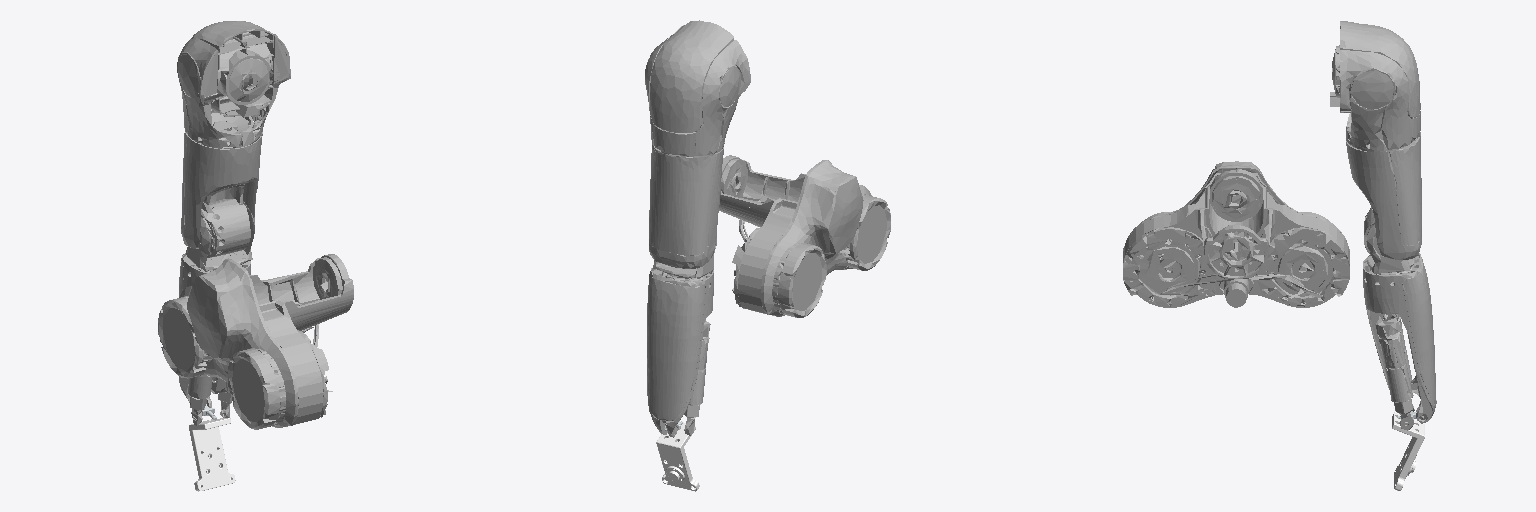
robot.urdf — p4_humanoid_l_arm:
<?xml version="1.0" encoding="utf-8"?>
<!-- This URDF was automatically created by SolidWorks to URDF Exporter! Originally created by Stephen Brawner (brawner@gmail.com) 
     Commit Version: 1.6.0-4-g7f85cfe  Build Version: 1.6.7995.38578
     For more information, please see http://wiki.ros.org/sw_urdf_exporter -->
<robot
  name="p4_humanoid_l_arm">

  <!-- *************************************************************************************************** -->
  <!--***************************************  LeftArm ************************************************** -->
  
  <link
    name="pelvis">
    <inertial>
      <origin
        xyz="-0.097501 -0.00071331 0.014496"
        rpy="0 0 0" />
      <mass
        value="7.3588" />
      <inertia
        ixx="0.07295321"
        ixy="5.28E-05"
        ixz="0.00061832"
        iyy="0.01891928"
        iyz="7.9E-05"
        izz="0.06144182" />
    </inertial>
    <visual>
      <origin
        xyz="0 0 0"
        rpy="0 0 0" />
      <geometry>
        <mesh
          filename="package://p4_humanoid_description/meshes/pelvis.STL" />
      </geometry>
      <material
        name="">
        <color
          rgba="0.75294 0.75294 0.75294 1" />
      </material>
    </visual>
    <collision>
      <origin
        xyz="0 0 0"
        rpy="0 0 0" />
      <geometry>
        <mesh
          filename="package://p4_humanoid_description/meshes/pelvis.STL" />
      </geometry>
    </collision>
  </link>

  
  <link
    name="link_la1">
    <inertial>
      <origin
        xyz="-0.0017427 -0.0032911 -0.00048706"
        rpy="0 0 0" />
      <mass
        value="1.5214" />
      <inertia
        ixx="0.0020202"
        ixy="1.53E-06"
        ixz="-8E-08"
        iyy="0.0020419"
        iyz="2.22E-05"
        izz="0.0021238" />
    </inertial>
    <visual>
      <origin
        xyz="0 0 0"
        rpy="0 0 0" />
      <geometry>
        <mesh
          filename="package://p5_humanoid_description/meshes/link_la1.STL" />
      </geometry>
      <material
        name="">
        <color
          rgba="0.75294 0.75294 0.75294 1" />
      </material>
    </visual>
    <collision>
      <origin
        xyz="0 0 0"
        rpy="0 0 0" />
      <geometry>
        <mesh
          filename="package://p5_humanoid_description/meshes/link_la1.STL" />
      </geometry>
    </collision>
  </link>
  <joint
    name="joint_la1"
    type="revolute">
    <origin
      xyz="-0.0079 0.19799 0.346"
      rpy="0 0 0" />
    <parent
      link="pelvis" />
    <child
      link="link_la1" />
    <axis
      xyz="0 1 0" />
    <limit
      lower="-2.7576"
      upper="2.7576"
      effort="1000"
      velocity="10" />
  </joint>
  <link
    name="link_la2">
    <inertial>
      <origin
        xyz="-0.002658 0.006084 -0.044177"
        rpy="0 0 0" />
      <mass
        value="0.59342" />
      <inertia
        ixx="0.0019946"
        ixy="-1.05E-05"
        ixz="5.194E-05"
        iyy="0.0027114"
        iyz="0.000263"
        izz="0.0017907" />
    </inertial>
    <visual>
      <origin
        xyz="0 0 0"
        rpy="0 0 0" />
      <geometry>
        <mesh
          filename="package://p5_humanoid_description/meshes/link_la2.STL" />
      </geometry>
      <material
        name="">
        <color
          rgba="0.75294 0.75294 0.75294 1" />
      </material>
    </visual>
    <collision>
      <origin
        xyz="0 0 0"
        rpy="0 0 0" />
      <geometry>
        <mesh
          filename="package://p5_humanoid_description/meshes/link_la2.STL" />
      </geometry>
    </collision>
  </link>
  <joint
    name="joint_la2"
    type="revolute">
    <origin
      xyz="0 0 0"
      rpy="0 0 0" />
    <parent
      link="link_la1" />
    <child
      link="link_la2" />
    <axis
      xyz="1 0 0" />
    <limit
      lower="-0.2618"
      upper="2.8798"
      effort="1000"
      velocity="10" />
  </joint>
  <link
    name="link_la3">
    <inertial>
      <origin
        xyz="-0.0043043 -0.00056853 -0.086242"
        rpy="0 0 0" />
      <mass
        value="1.8035" />
      <inertia
        ixx="0.008233"
        ixy="3.217E-05"
        ixz="-0.00050344"
        iyy="0.0082866"
        iyz="-0.0001859"
        izz="0.0017181" />
    </inertial>
    <visual>
      <origin
        xyz="0 0 0"
        rpy="0 0 0" />
      <geometry>
        <mesh
          filename="package://p5_humanoid_description/meshes/link_la3.STL" />
      </geometry>
      <material
        name="">
        <color
          rgba="0.75294 0.75294 0.75294 1" />
      </material>
    </visual>
    <collision>
      <origin
        xyz="0 0 0"
        rpy="0 0 0" />
      <geometry>
        <mesh
          filename="package://p5_humanoid_description/meshes/link_la3.STL" />
      </geometry>
    </collision>
  </link>
  <joint
    name="joint_la3"
    type="revolute">
    <origin
      xyz="-5.6644E-05 0.015599 -0.10454"
      rpy="0.087272 0 0" />
    <parent
      link="link_la2" />
    <child
      link="link_la3" />
    <axis
      xyz="0 0 1" />
    <limit
      lower="-2.618"
      upper="2.618"
      effort="1000"
      velocity="10" />
  </joint>
  <link
    name="link_la4">
    <inertial>
      <origin
        xyz="-0.0037512 0.00059846 -0.022713"
        rpy="0 0 0" />
      <mass
        value="0.19646" />
      <inertia
        ixx="0.00014929"
        ixy="-5.55E-06"
        ixz="2.026E-05"
        iyy="0.0002863"
        iyz="-1.87E-06"
        izz="0.00023341" />
    </inertial>
    <visual>
      <origin
        xyz="0 0 0"
        rpy="0 0 0" />
      <geometry>
        <mesh
          filename="package://p5_humanoid_description/meshes/link_la4.STL" />
      </geometry>
      <material
        name="">
        <color
          rgba="0.75294 0.75294 0.75294 1" />
      </material>
    </visual>
    <collision>
      <origin
        xyz="0 0 0"
        rpy="0 0 0" />
      <geometry>
        <mesh
          filename="package://p5_humanoid_description/meshes/link_la4.STL" />
      </geometry>
    </collision>
  </link>
  <joint
    name="joint_la4"
    type="revolute">
    <origin
      xyz="-0.00075212 -0.0049993 -0.154"
      rpy="0 -1.4664E-05 -0.00087622" />
    <parent
      link="link_la3" />
    <child
      link="link_la4" />
    <axis
      xyz="1 0 0" />
    <limit
      lower="-2.2166"
      upper="0.1745"
      effort="1000"
      velocity="10" />
  </joint>
  <link
    name="link_la5">
    <inertial>
      <origin
        xyz="8.05E-05 0.00037564 -0.15082"
        rpy="0 0 0" />
      <mass
        value="2.0103" />
      <inertia
        ixx="0.013613"
        ixy="2.4E-07"
        ixz="-1.157E-05"
        iyy="0.013825"
        iyz="0.00019251"
        izz="0.0018716" />
    </inertial>
    <visual>
      <origin
        xyz="0 0 0"
        rpy="0 0 0" />
      <geometry>
        <mesh
          filename="package://p5_humanoid_description/meshes/link_la5.STL" />
      </geometry>
      <material
        name="">
        <color
          rgba="0.75294 0.75294 0.75294 1" />
      </material>
    </visual>
    <collision>
      <origin
        xyz="0 0 0"
        rpy="0 0 0" />
      <geometry>
        <mesh
          filename="package://p5_humanoid_description/meshes/link_la5.STL" />
      </geometry>
    </collision>
  </link>
  <joint
    name="joint_la5"
    type="revolute">
    <origin
      xyz="0 0 0"
      rpy="0 0 0" />
    <parent
      link="link_la4" />
    <child
      link="link_la5" />
    <axis
      xyz="0 0 1" />
    <limit
      lower="-2.9147"
      upper="2.9147"
      effort="1000"
      velocity="10" />
  </joint>
  <link
    name="link_la6">
    <inertial>
      <origin
        xyz="0 -0.010485 -1.3192E-05"
        rpy="0 0 0" />
      <mass
        value="0.0077626" />
      <inertia
        ixx="8.9E-07"
        ixy="0"
        ixz="0"
        iyy="1.4E-07"
        iyz="0"
        izz="9.3E-07" />
    </inertial>
    <visual>
      <origin
        xyz="0 0 0"
        rpy="0 0 0" />
      <geometry>
        <mesh
          filename="package://p5_humanoid_description/meshes/link_la6.STL" />
      </geometry>
      <material
        name="">
        <color
          rgba="0.89804 0.91765 0.92941 1" />
      </material>
    </visual>
    <collision>
      <origin
        xyz="0 0 0"
        rpy="0 0 0" />
      <geometry>
        <mesh
          filename="package://p5_humanoid_description/meshes/link_la6.STL" />
      </geometry>
    </collision>
  </link>
  <joint
    name="joint_la6"
    type="revolute">
    <origin
      xyz="0 0.02371 -0.29585"
      rpy="0.045412 0 0" />
    <parent
      link="link_la5" />
    <child
      link="link_la6" />
    <axis
      xyz="1 0 0" />
    <limit
      lower="-0.9948"
      upper="0.9948"
      effort="1000"
      velocity="10" />
  </joint>


  <joint
    name="joint_la7"
    type="revolute" dont_collapse="true">
    <origin
      xyz="0 -0.05 -0.05"
      rpy="0.54  3.14159 0" />
    <parent
      link="link_la6" />
    <child
      link="grip_base_link_l" />
    <axis
      xyz="0 1 0" />
    <limit
      lower="-0.4538"
      upper="0.4538"
      effort="60"
      velocity="3" />
    <dynamics damping="1.0e-6" friction="2.0e-1"/>
  </joint>

  <link
    name="grip_base_link_l">
    <inertial>
      <origin
        xyz="1.1069E-08 -0.007103 -0.020658"
        rpy="0 0 0" />
      <mass
        value="0.059729" />
      <inertia
        ixx="6.4028E-05"
        ixy="1.282E-11"
        ixz="-1.0166E-11"
        iyy="1.8469E-05"
        iyz="1.2373E-05"
        izz="6.4362E-05" />
    </inertial>
    <visual>
      <origin
        xyz="0 0 0"
        rpy="0 0 0" />
      <geometry>
        <mesh
          filename="package://p5_humanoid_description/meshes/grip_base_link.STL" />
      </geometry>
      <material
        name="">
        <color
          rgba="1 1 1 0.32" />
      </material>
    </visual>
    <!-- <collision>
      <origin
        xyz="0 0 0"
        rpy="0 0 0" />
      <geometry>
        <mesh
          filename="package://p5_humanoid_description/meshes/grip_base_link.STL" />
      </geometry>
    </collision> -->
  </link>


    <!-- <link name="link_tcp_l" />
  <joint name="joint_tcp_l" type="fixed">
    <origin xyz="0 -0.035 -0.15" rpy="0 0 0" />
    <parent link="link_la7" />
    <child link="link_tcp_l" />
    <axis xyz="0 0 0" />
  </joint> -->
</robot>

--- What the picture shows (computed from the rendered views, not written in the file) ---
3 views of the same robot in one strip: view 1: azimuth 30°, elevation 25°; view 2: azimuth 150°, elevation 25°; view 3: azimuth 270°, elevation 25° (orthographic).
Robot: p4_humanoid_l_arm — 8 links, 7 joints (7 revolute); root link pelvis; default pose: all joints at 0.
Visible links, largest first — view 1: pelvis, link_la3, link_la2, link_la1, grip_base_link_l, link_la5, link_la4; view 2: pelvis, link_la5, link_la3, link_la1, link_la2, grip_base_link_l, link_la4; view 3: pelvis, link_la5, link_la3, link_la2, link_la1, grip_base_link_l, link_la4.
Boxes of the visible links, left/top/right/bottom form: pelvis: left=158, top=254, right=353, bottom=429; link_la3: left=181, top=128, right=262, bottom=257; link_la2: left=177, top=25, right=290, bottom=147; link_la1: left=191, top=21, right=273, bottom=117; grip_base_link_l: left=189, top=418, right=235, bottom=491; link_la5: left=179, top=253, right=250, bottom=425; link_la4: left=186, top=201, right=254, bottom=270; pelvis: left=719, top=155, right=890, bottom=317; link_la5: left=647, top=268, right=713, bottom=437; link_la3: left=649, top=145, right=723, bottom=268; link_la1: left=650, top=20, right=733, bottom=132; link_la2: left=645, top=26, right=750, bottom=156; grip_base_link_l: left=656, top=421, right=699, bottom=491; link_la4: left=653, top=238, right=716, bottom=278; pelvis: left=1123, top=161, right=1349, bottom=307; link_la5: left=1363, top=253, right=1436, bottom=430; link_la3: left=1346, top=132, right=1421, bottom=259; link_la2: left=1340, top=50, right=1420, bottom=150; link_la1: left=1330, top=21, right=1420, bottom=116; grip_base_link_l: left=1392, top=412, right=1424, bottom=490; link_la4: left=1365, top=227, right=1415, bottom=273.
Bounding box of the posed robot: 0.2279 × 0.4578 × 0.7355 m (x, y, z).
Meshes: 8 distinct files referenced, 8 mesh visuals loaded (8 binary STL).
